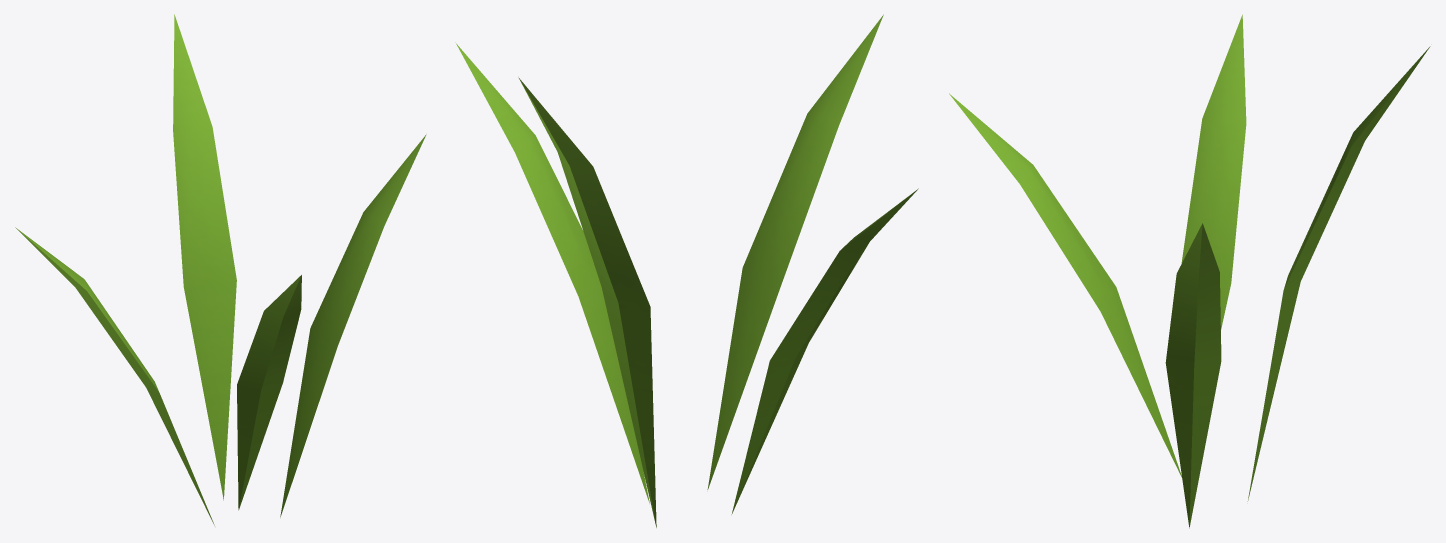
Rendered from Grass_09.fbx.
3 renders of one model, left to right at view 1: azimuth 30°, elevation 25°; view 2: azimuth 150°, elevation 25°; view 3: azimuth 270°, elevation 25°, orthographic. The views are drawn at different scales.
Visible parts, largest first — view 1: Grass_09; view 2: Grass_09; view 3: Grass_09.
Boxes of the visible parts, left/top/right/bottom form: Grass_09: left=15, top=14, right=426, bottom=525; Grass_09: left=455, top=14, right=918, bottom=527; Grass_09: left=949, top=14, right=1430, bottom=528.
Size of the model in its own units: 52.91 by 54.57 by 49.3.
